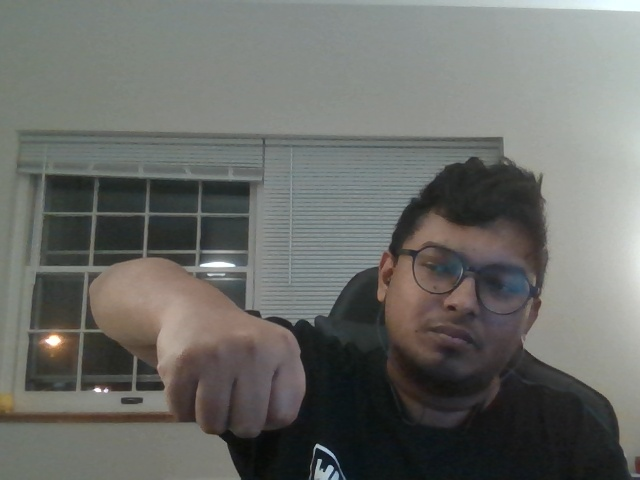yes: (91, 261, 328, 453)
